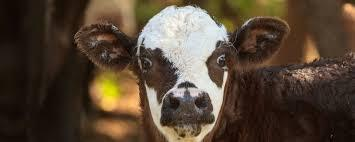cow: (74, 6, 355, 142)
